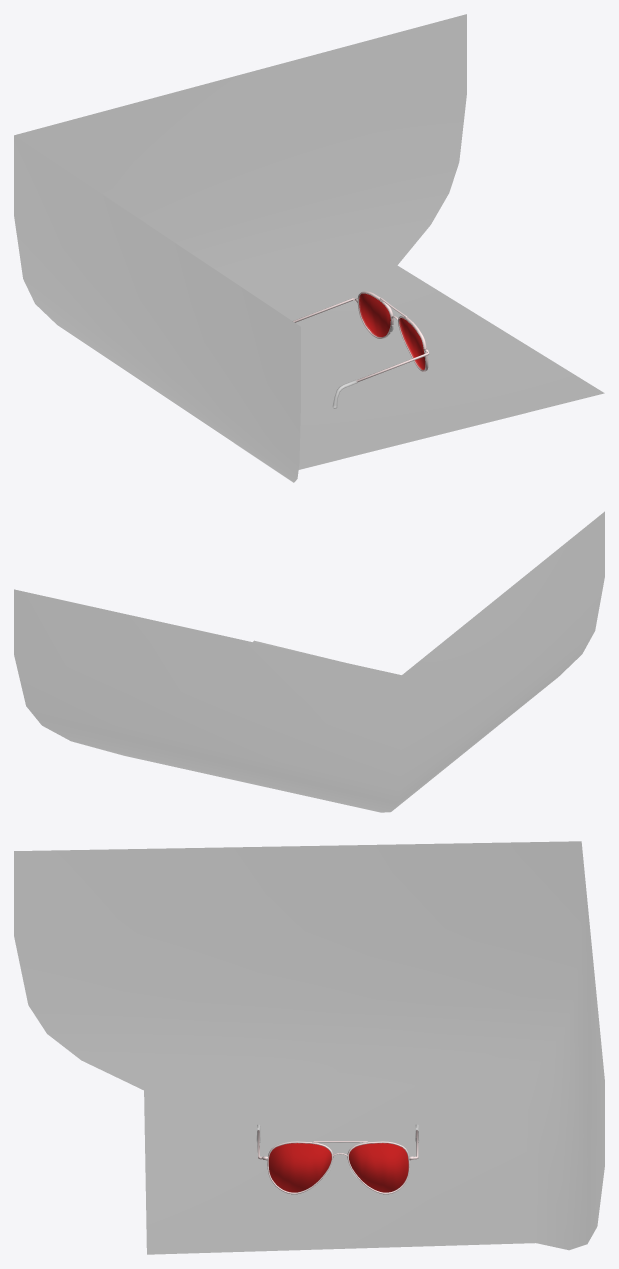
File: sunglasses.glb
3 renders of one model, top to bottom at view 1: azimuth 30°, elevation 25°; view 2: azimuth 150°, elevation 25°; view 3: azimuth 270°, elevation 25°, orthographic. The views are drawn at different scales.
Parts seen in each view (by area): view 1: Plane.001, Plane; view 2: Plane.001; view 3: Plane.001, Plane.
Part boxes in pixels (x1=…): Plane.001: x1=14, y1=14, x2=604, y2=482; Plane: x1=293, y1=291, x2=429, y2=408; Plane.001: x1=14, y1=511, x2=604, y2=812; Plane.001: x1=14, y1=841, x2=604, y2=1254; Plane: x1=256, y1=1124, x2=419, y2=1194.
Bounding box in the file's own units: 21.93 × 9.15 × 22.83.
